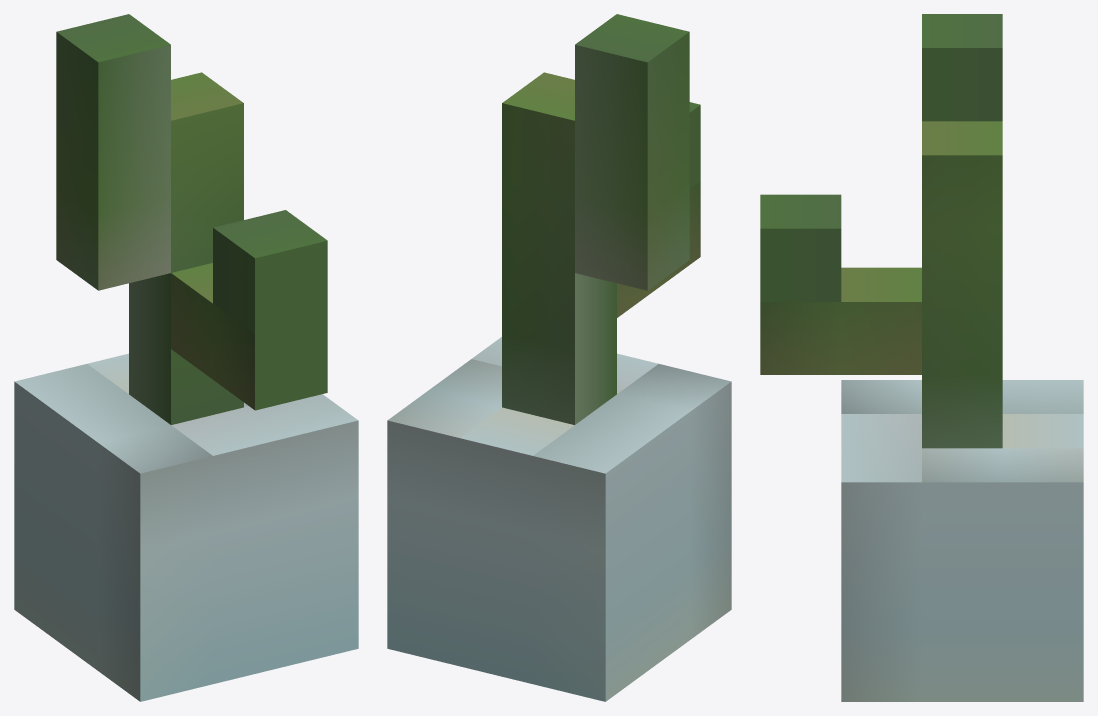
File: PlantCactusSmallLightGreen_04.obj
The picture shows the model from 3 angles, left to right: view 1: azimuth 30°, elevation 25°; view 2: azimuth 150°, elevation 25°; view 3: azimuth 270°, elevation 25°; orthographic projection. The views are drawn at different scales.
Visible parts, largest first — view 1: PlantCactusSmallLightGreen_04; view 2: PlantCactusSmallLightGreen_04; view 3: PlantCactusSmallLightGreen_04.
Part boxes in pixels (x1=…): PlantCactusSmallLightGreen_04: x1=14, y1=14, x2=358, y2=701; PlantCactusSmallLightGreen_04: x1=387, y1=14, x2=731, y2=701; PlantCactusSmallLightGreen_04: x1=760, y1=14, x2=1083, y2=701.
Bounding box in the file's own units: 0.15 × 0.4 × 0.2.
